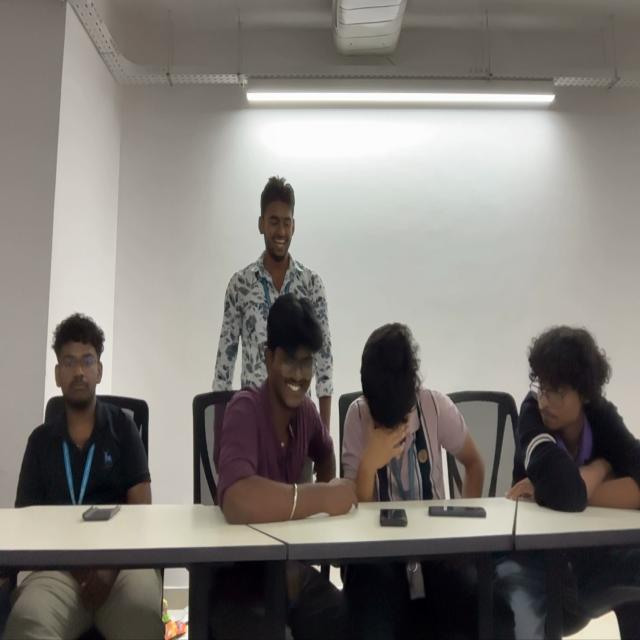Isolated: (15, 310, 152, 505), (510, 326, 640, 511)
socializing: (210, 176, 483, 524)
